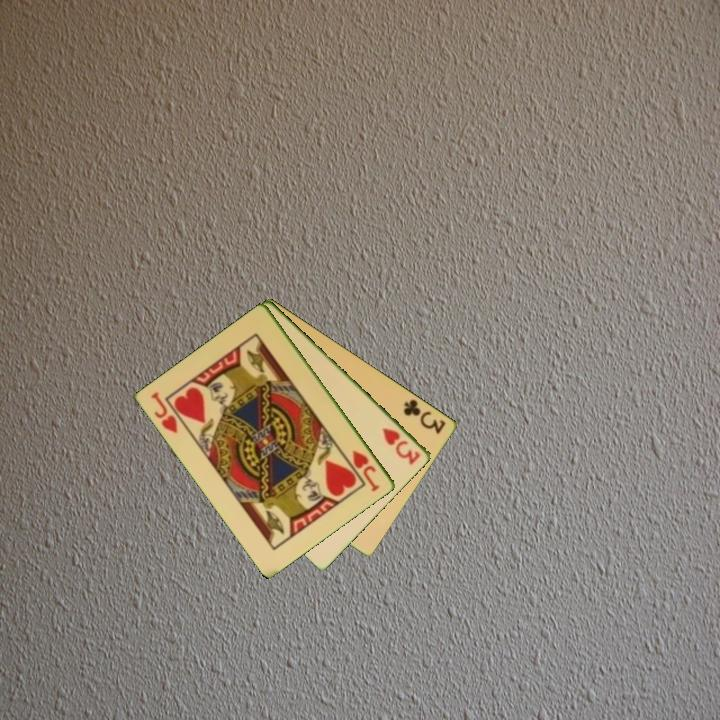3c: (400, 395, 449, 437)
3h: (379, 424, 424, 468)
Jh: (349, 447, 383, 495), (148, 388, 181, 436)
